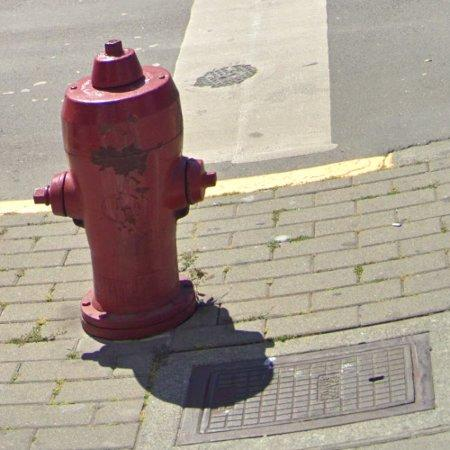a fire hydrant: (33, 40, 216, 341)
